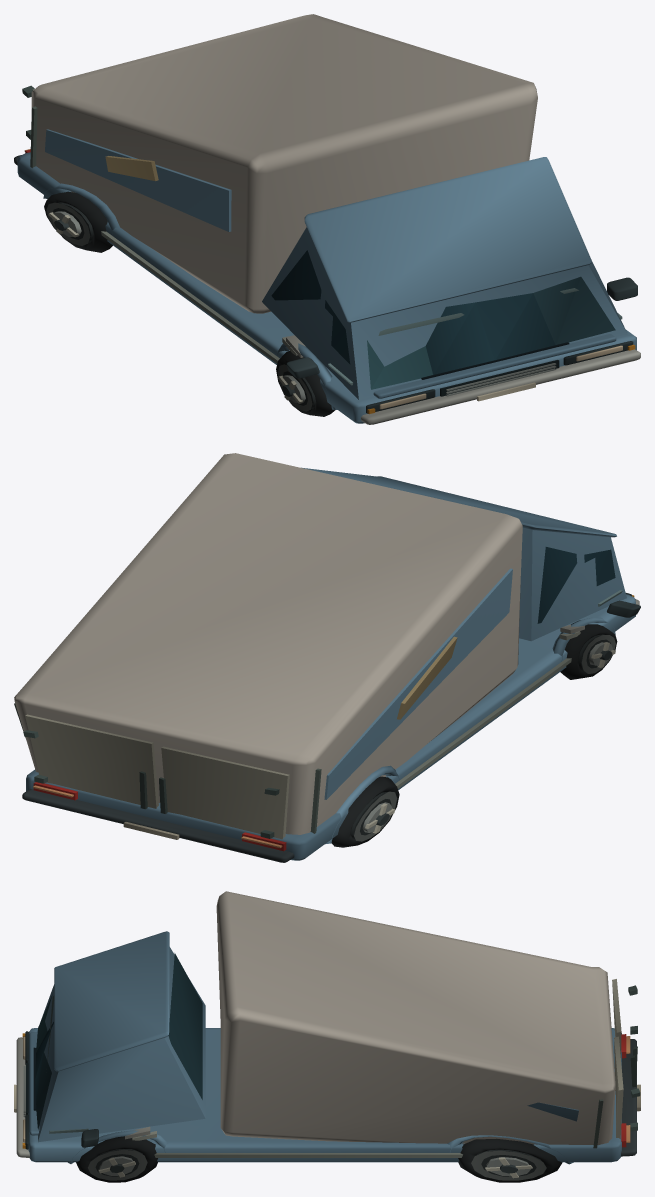
File: van.glb
3 renders of one model, top to bottom at view 1: azimuth 30°, elevation 25°; view 2: azimuth 150°, elevation 25°; view 3: azimuth 270°, elevation 25°, orthographic. The views are drawn at different scales.
Parts seen in each view (by area): view 1: van_body; view 2: van_body; view 3: van_body.
Boxes of the visible parts, bbox=[...] form: van_body: bbox=[14, 14, 640, 424]; van_body: bbox=[14, 453, 640, 862]; van_body: bbox=[14, 891, 640, 1182].
Size of the model in its own units: 2.52 by 1.43 by 4.58.
